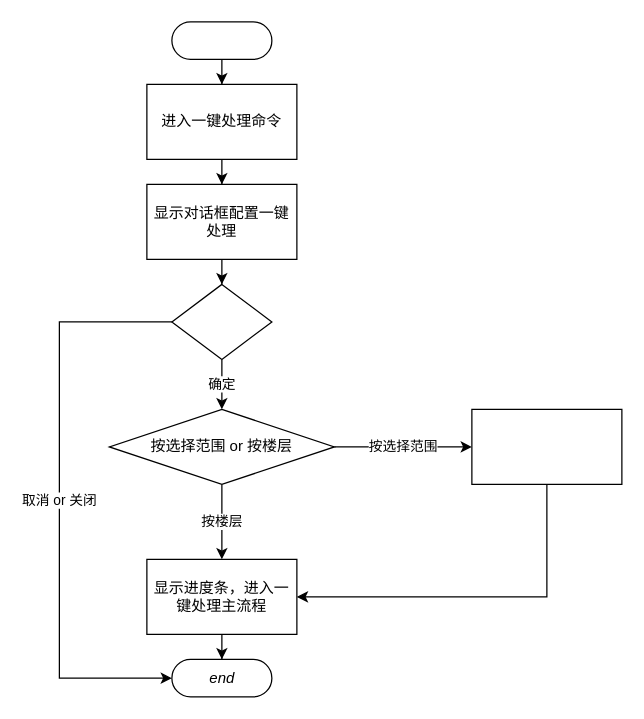
Image size: 644x719. Some labels were removed from this diagram. The centre of each missing label's shape, as x and y in pixels:
start: (221,40)
确定？: (221,321)
选择需要进行一键处理的构件（点选、框选）: (546,446)
